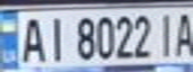0: (93, 12, 118, 61)
2: (133, 10, 157, 60), (115, 11, 136, 61)
8: (72, 12, 96, 61)
A: (15, 13, 48, 64), (172, 8, 193, 57)
I: (42, 12, 69, 64), (154, 9, 181, 58)
